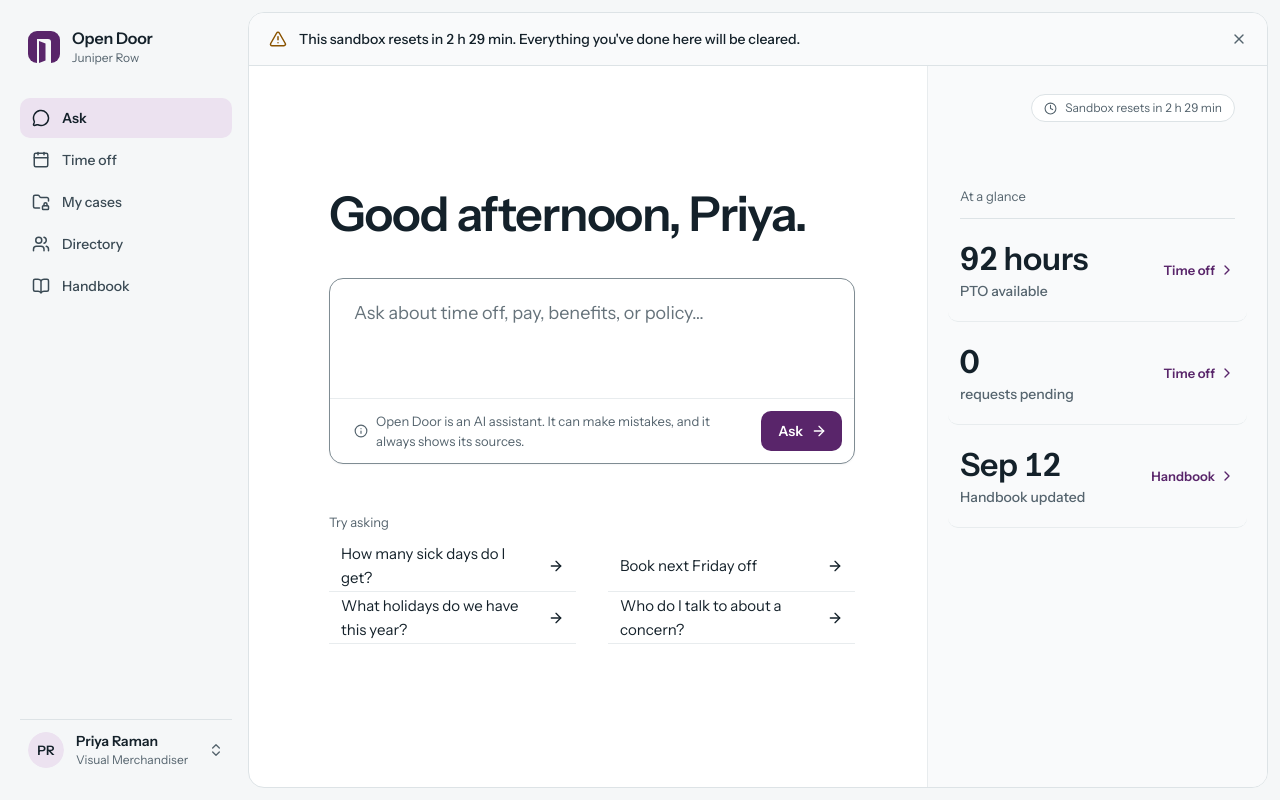
Test case: the shell: the countdown and the banner › shows the banner again for a new sandbox, with a new expiry
The width and height of the screenshot is (1280, 800).
Expected: the element named "Sidebar" is shown, [0,0,248,799]
Click the button named "Dismiss for this session".
click(1239, 39)  # box [1223,23,1255,55]
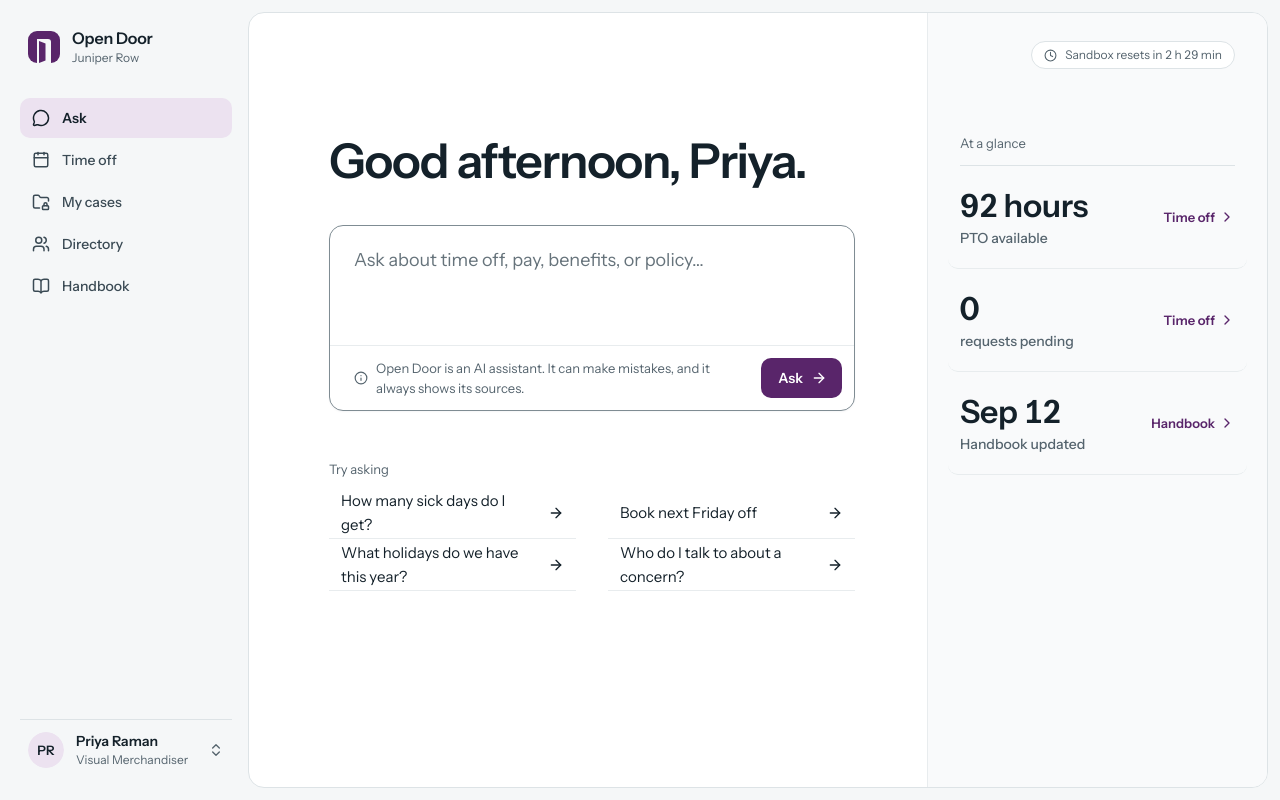
Click the button named "Switch persona".
click(126, 750)  # box [20,719,232,780]
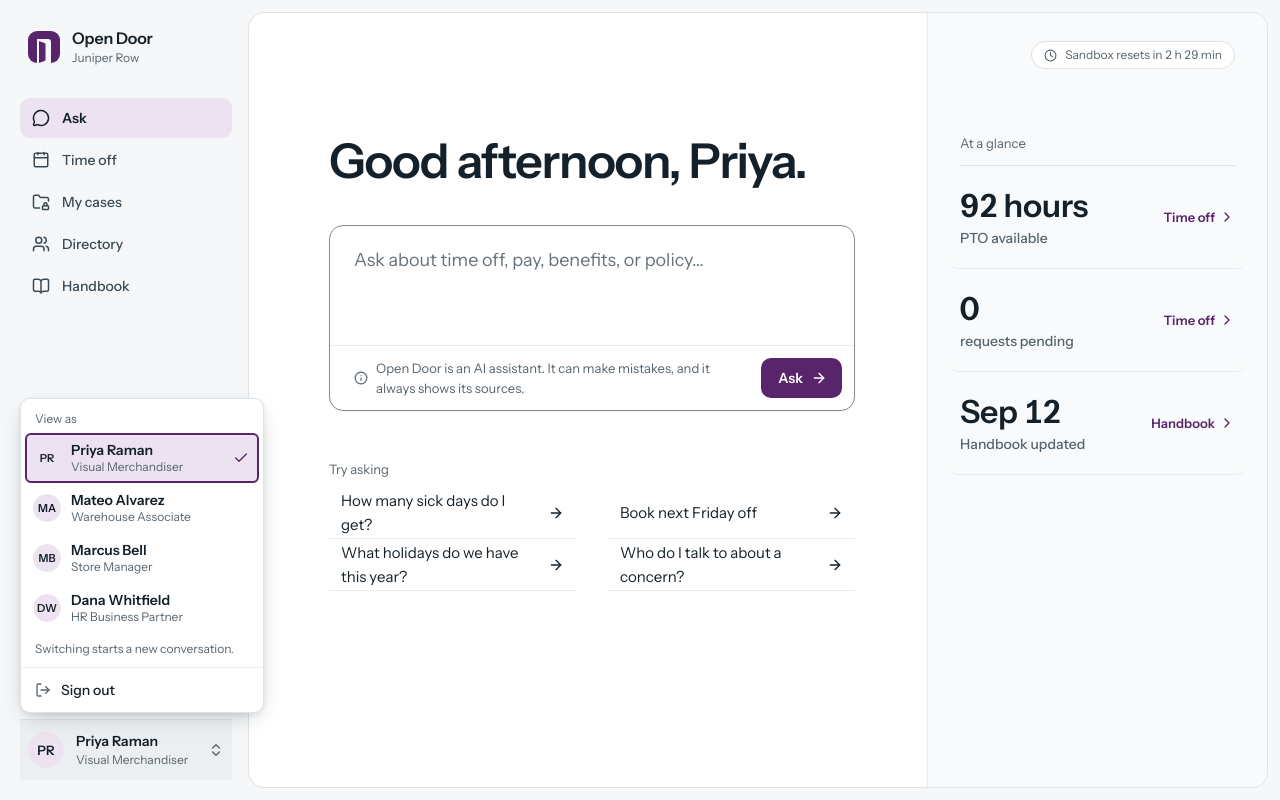
Click the menu item "Sign out".
click(75, 690)  # box [35,681,115,699]
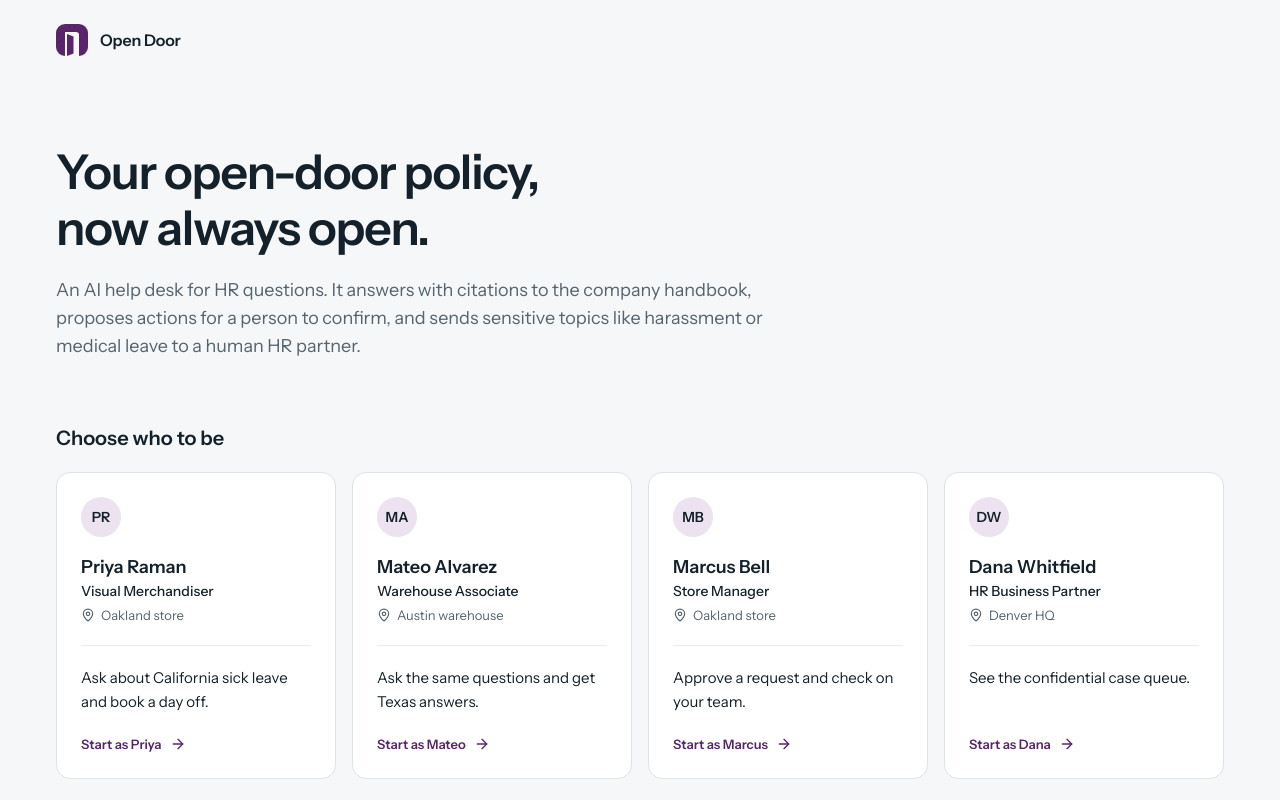
Result: the heading "Your open-door policy, now always open." is shown at [56,142,539,257]
Click the button "Priya ".
click(101, 517)  # box [56,472,336,779]
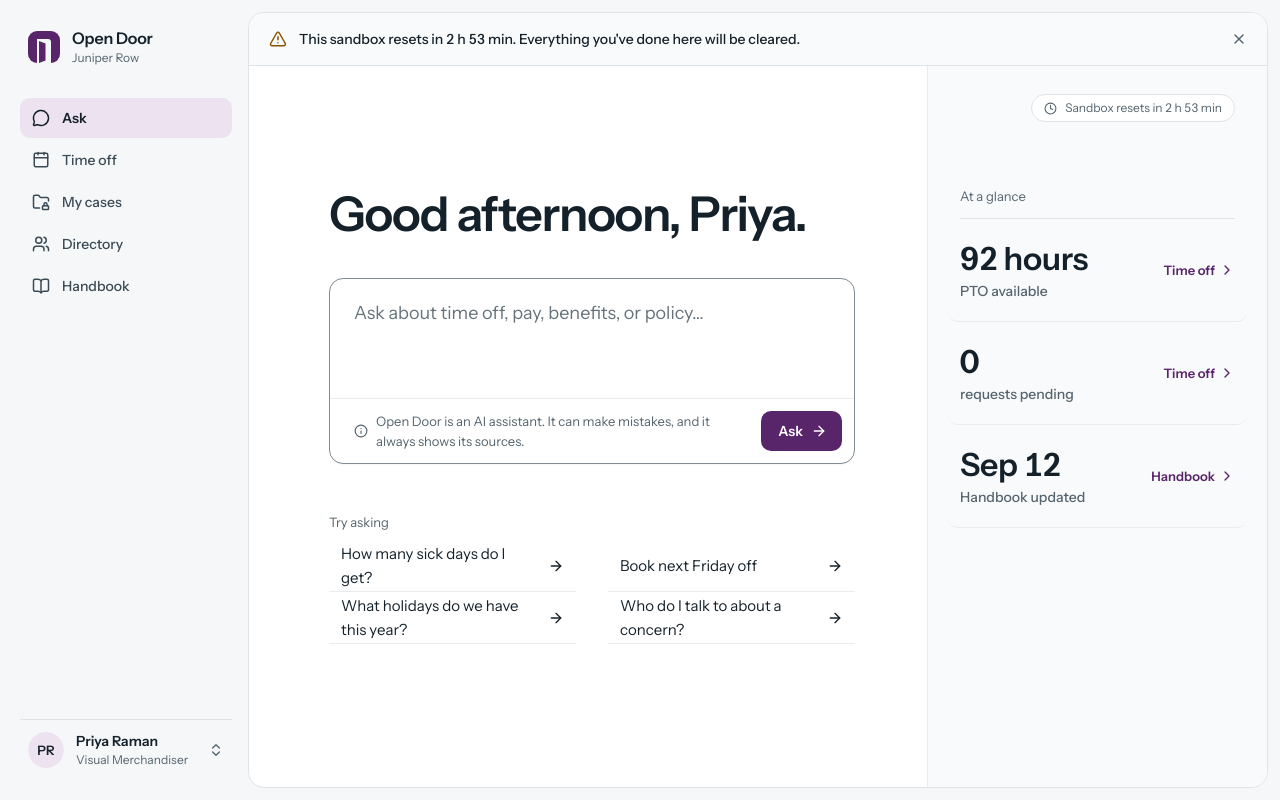
Result: the element named "Sidebar" is shown at [0,0,248,799]
